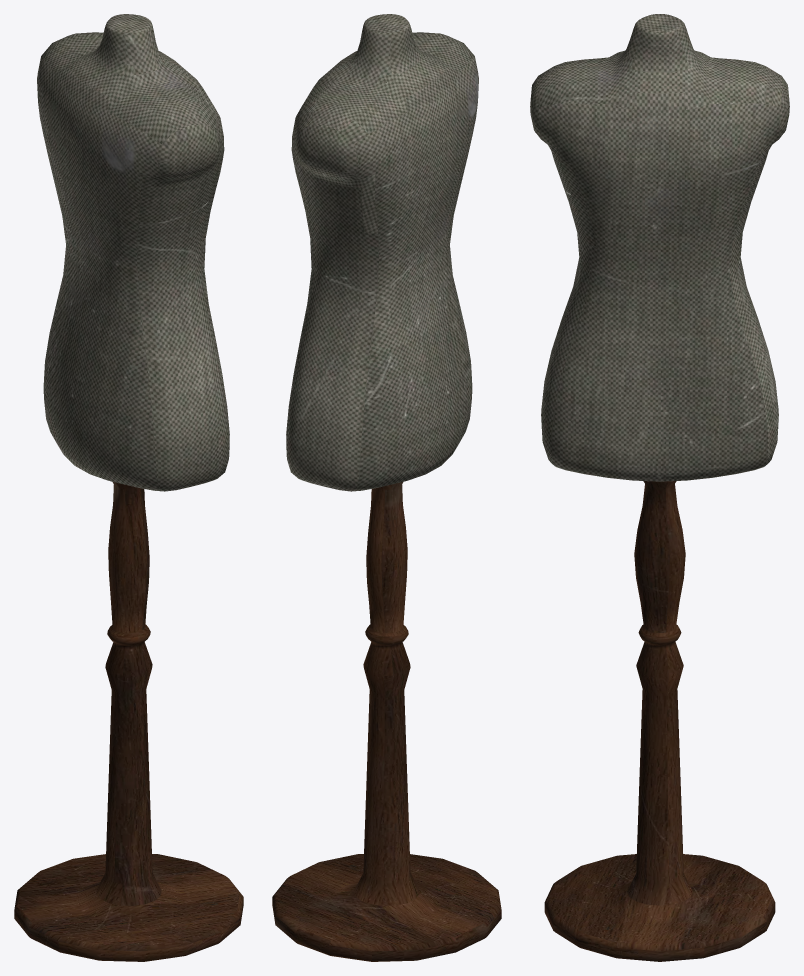
File: mannequin.glb
3 views of the same model, side by side, from view 1: azimuth 30°, elevation 25°; view 2: azimuth 150°, elevation 25°; view 3: azimuth 270°, elevation 25° (orthographic).
Parts seen in each view (by area): view 1: mannequin, stand; view 2: mannequin, stand; view 3: mannequin, stand.
Boxes of the visible parts, x1,y1,x2,y2 form: mannequin: (37,14,229,491); stand: (14,482,243,961); mannequin: (286,14,478,491); stand: (272,482,501,961); mannequin: (530,14,789,481); stand: (544,481,775,961).
Size of the model in its own units: 0.3593 by 1.53 by 0.404.
2 materials, 2 textured.
